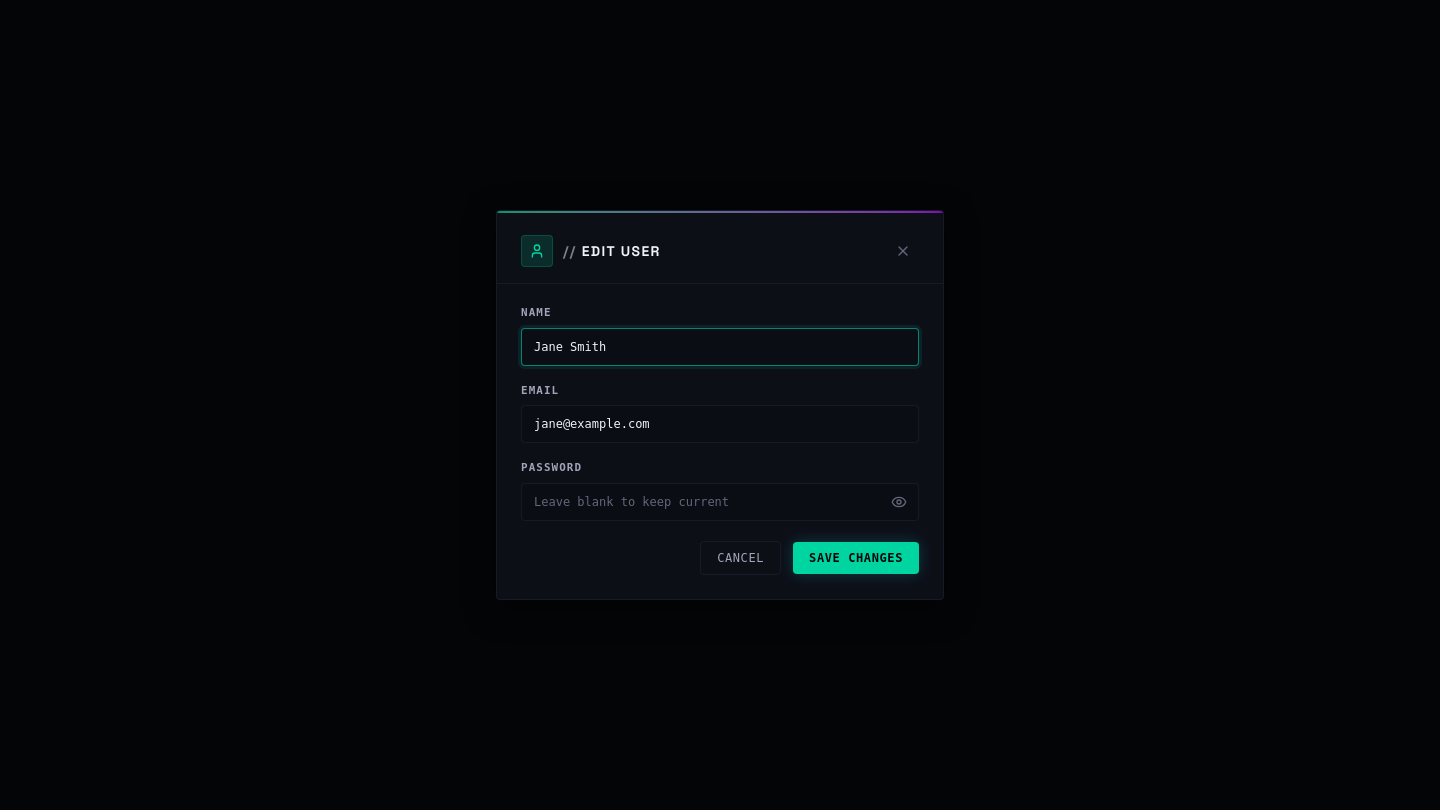
Scenario: UserModal Component › Edit Mode › should display validation error if provided password is too short
Type "short" into the password field labelled "Password".
click(720, 502); type("short")  # box x1=521 y1=483 x2=919 y2=521
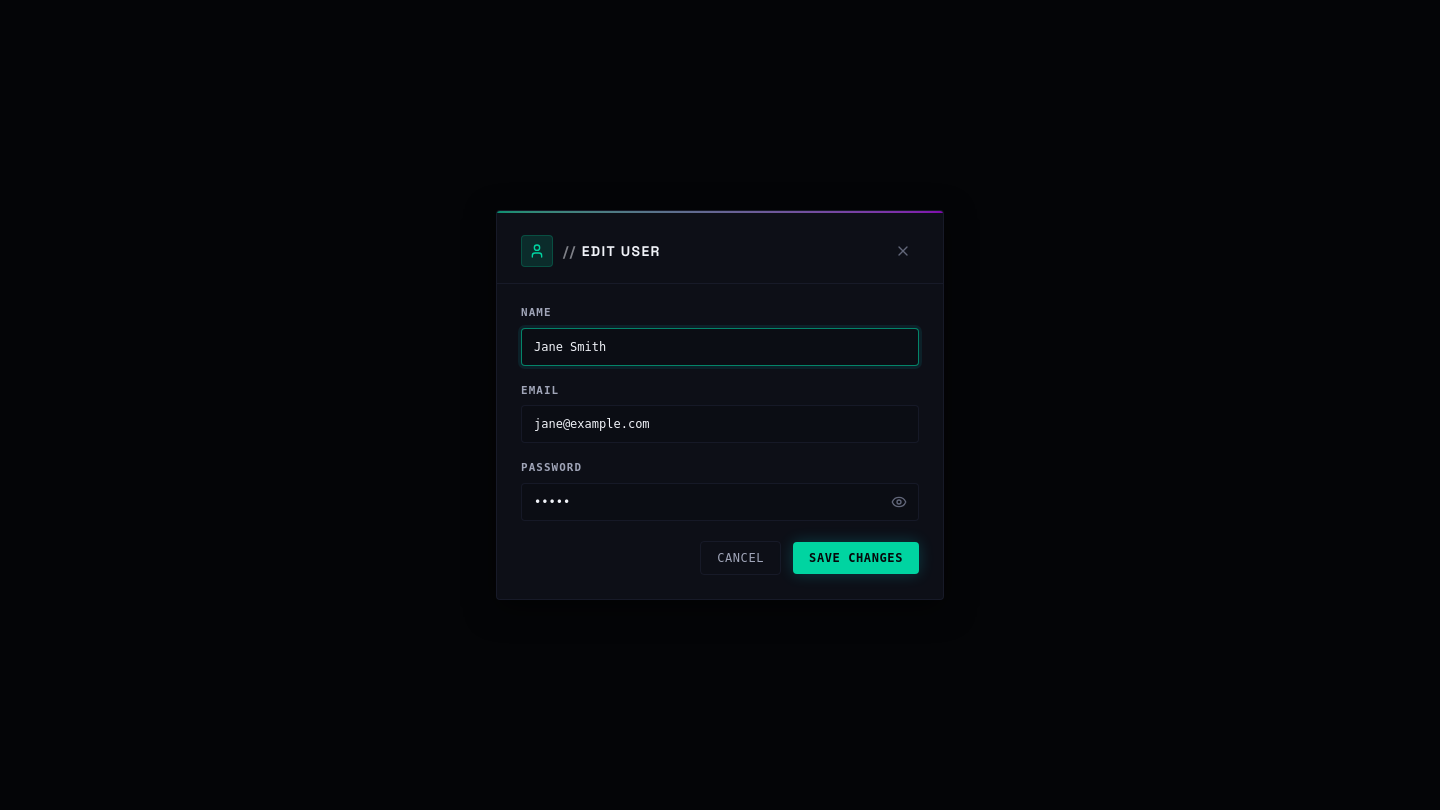
Click the button "Save Changes".
click(856, 558)  # box x1=793 y1=542 x2=919 y2=574
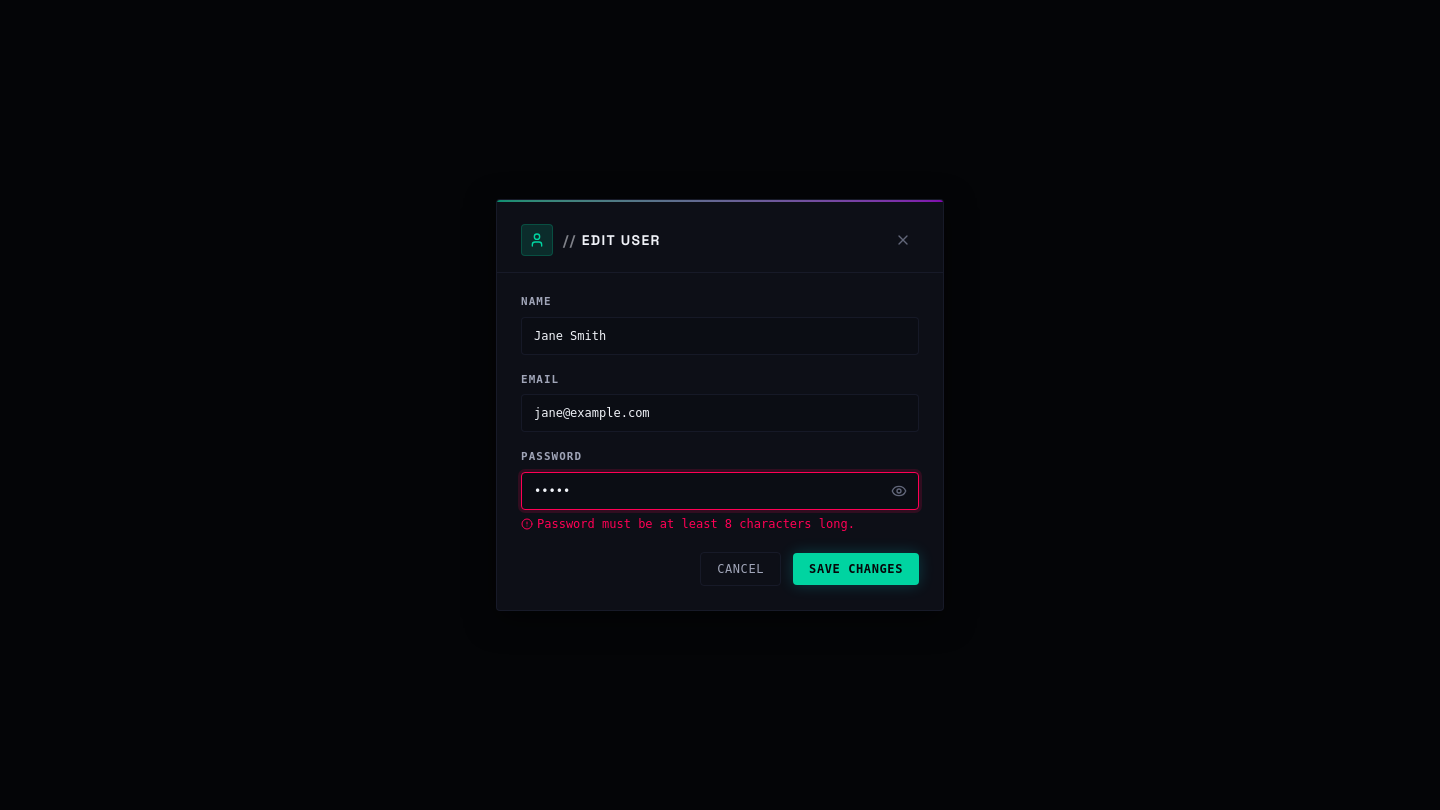
Expected: the text "Password must be at least 8 characters long." is shown, x1=521 y1=517 x2=855 y2=531
